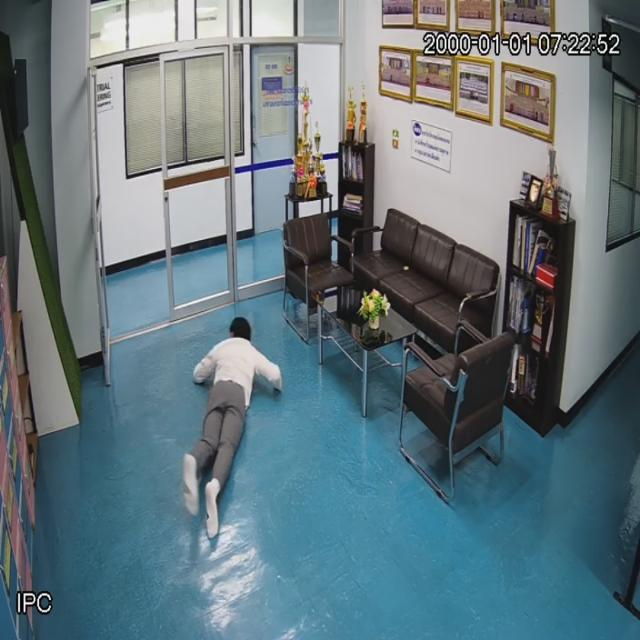fall: (185, 314, 281, 542)
